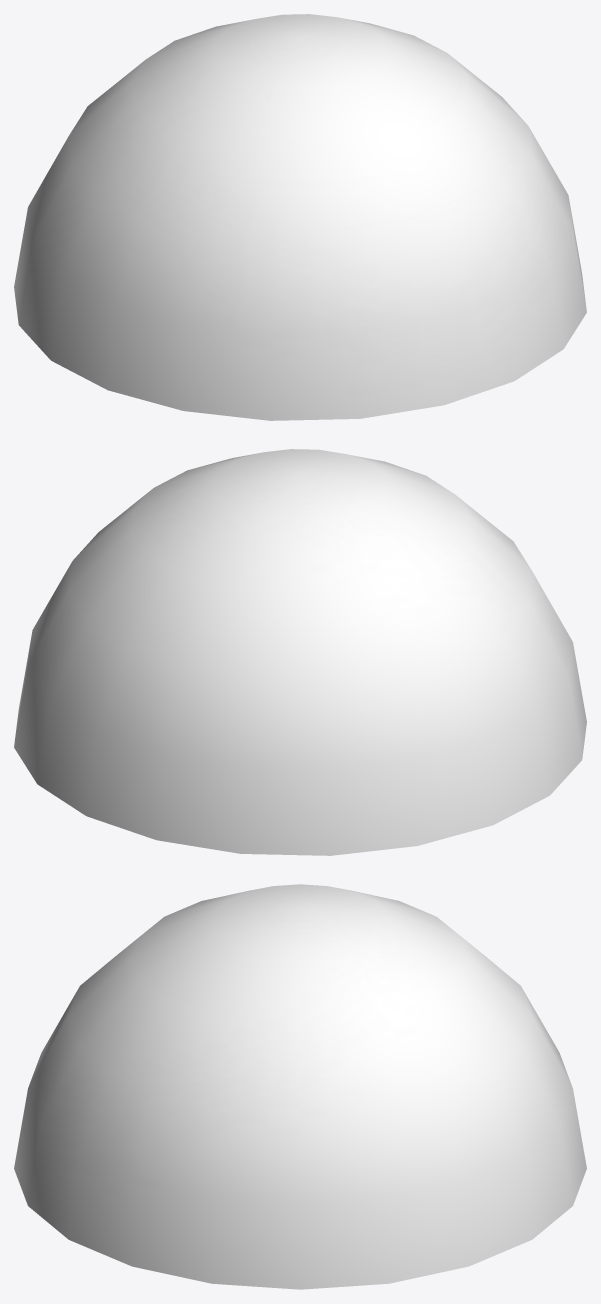
The model's file is banyuan1.FBX.
3 renders of one model, top to bottom at view 1: azimuth 30°, elevation 25°; view 2: azimuth 150°, elevation 25°; view 3: azimuth 270°, elevation 25°, orthographic.
Parts seen in each view (by area): view 1: banyuan; view 2: banyuan; view 3: banyuan.
Boxes of the visible parts, x1,y1,x2,y2 form: banyuan: [14, 14, 586, 420]; banyuan: [14, 449, 586, 855]; banyuan: [14, 884, 586, 1289].
Bounding box in the file's own units: 72.79 × 36.4 × 72.79.
